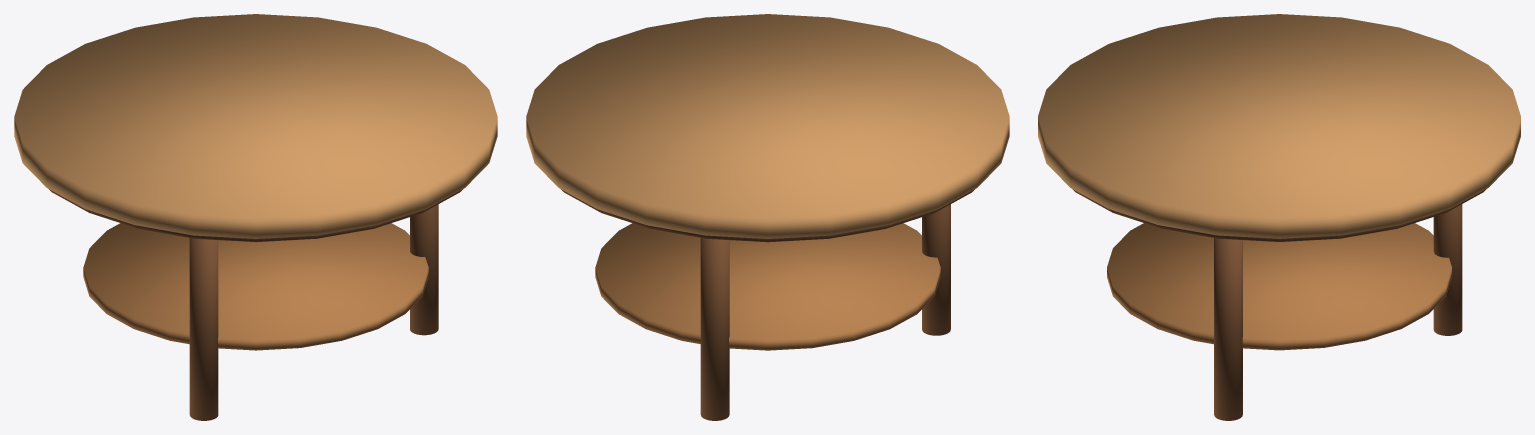
The model's file is coffee_table.glb.
The picture shows the model from 3 angles, left to right: view 1: azimuth 30°, elevation 25°; view 2: azimuth 150°, elevation 25°; view 3: azimuth 270°, elevation 25°; orthographic projection.
Visible parts, largest first — view 1: top, lower-shelf, leg.001, leg, rim; view 2: top, lower-shelf, leg.002, leg.001, rim; view 3: top, lower-shelf, leg, leg.002, rim.
Part boxes in pixels (x1=…): top: x1=14, y1=14, x2=497, y2=238; lower-shelf: x1=83, y1=223, x2=428, y2=350; leg.001: x1=189, y1=238, x2=218, y2=420; leg: x1=410, y1=204, x2=438, y2=335; rim: x1=49, y1=189, x2=462, y2=242; top: x1=526, y1=14, x2=1009, y2=238; lower-shelf: x1=595, y1=223, x2=940, y2=350; leg.002: x1=700, y1=238, x2=729, y2=420; leg.001: x1=922, y1=204, x2=950, y2=335; rim: x1=561, y1=189, x2=974, y2=242; top: x1=1038, y1=14, x2=1520, y2=238; lower-shelf: x1=1107, y1=223, x2=1451, y2=350; leg: x1=1214, y1=238, x2=1242, y2=420; leg.002: x1=1433, y1=204, x2=1462, y2=335; rim: x1=1072, y1=189, x2=1486, y2=241.
Bounding box in the file's own units: 0.84 × 0.44 × 0.84.
